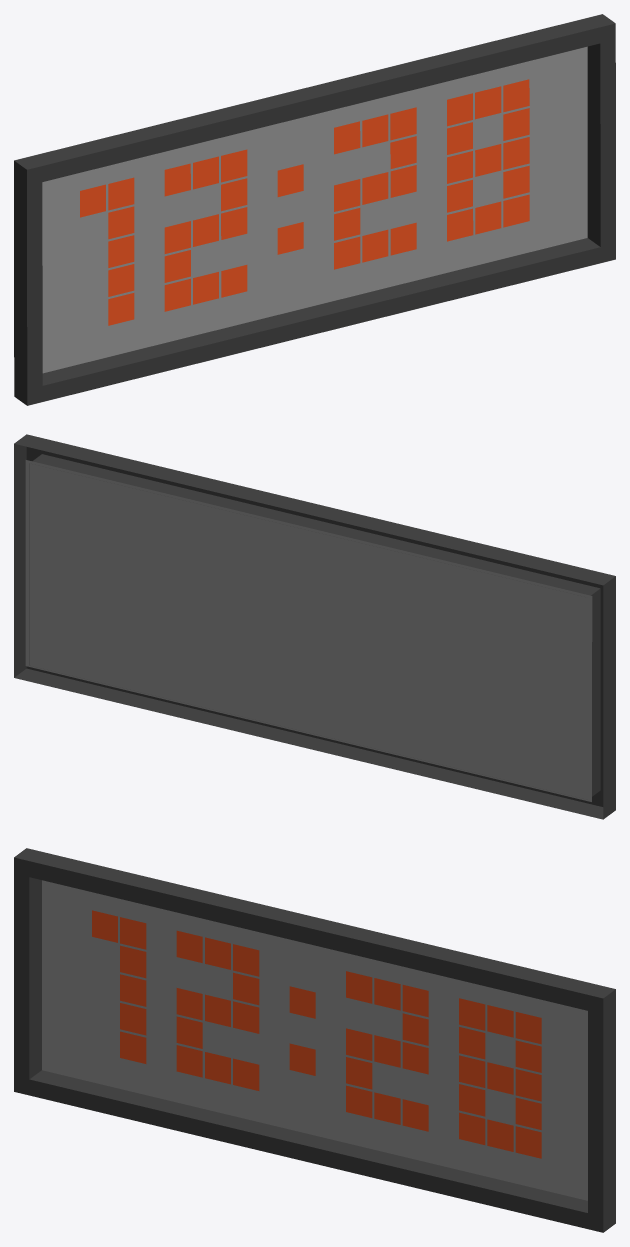
Rendered from Clock2.fbx.
3 views of the same model, one above another, from view 1: azimuth 30°, elevation 25°; view 2: azimuth 150°, elevation 25°; view 3: azimuth 330°, elevation 25° (orthographic).
Visible parts, largest first — view 1: Clock2; view 2: Clock2; view 3: Clock2.
Part boxes in pixels (x1,y1,x2,y2): Clock2: (14,14,615,405); Clock2: (14,434,615,819); Clock2: (14,848,615,1232).
Bounding box in the file's own units: 43.73 × 16.7 × 1.97.
